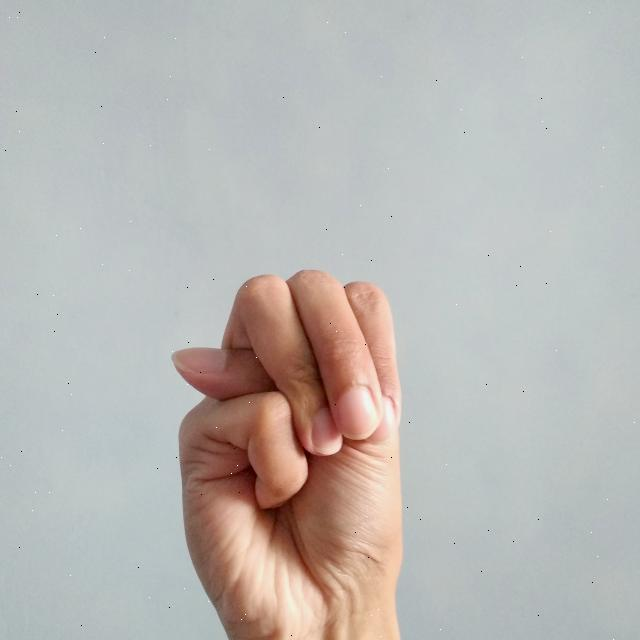M: (168, 260, 422, 640)
